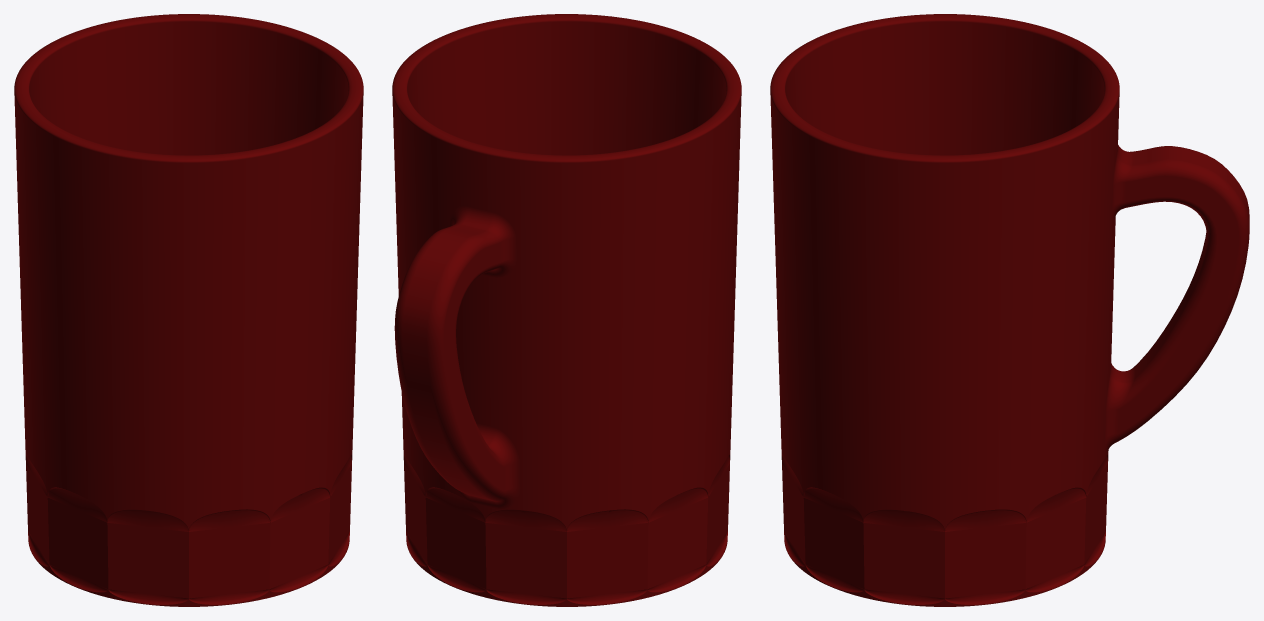
3 views of the same model, side by side, from view 1: azimuth 30°, elevation 25°; view 2: azimuth 150°, elevation 25°; view 3: azimuth 270°, elevation 25° (orthographic).
Size of the model in its own units: 0.05 by 0.0715 by 0.0686.
